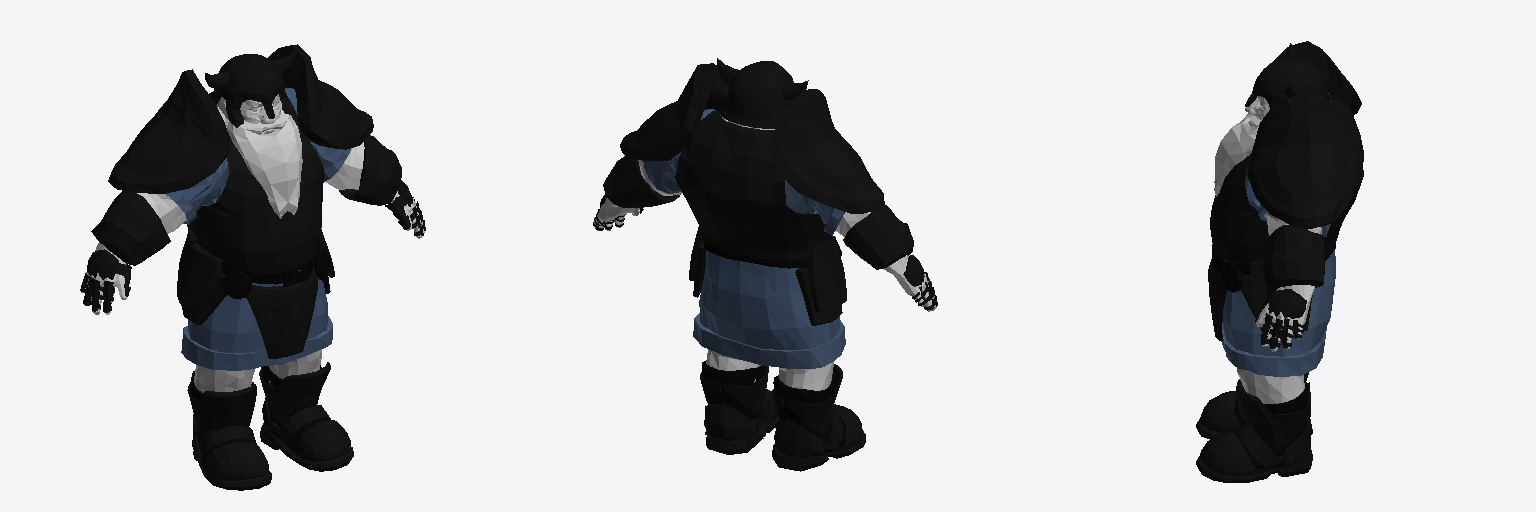
The model's file is dwarf2.obj.
The picture shows the model from 3 angles: view 1: azimuth 30°, elevation 25°; view 2: azimuth 150°, elevation 25°; view 3: azimuth 270°, elevation 25°; orthographic projection.
Visible parts, largest first — view 1: armor_Cube.013, body_Cube.005, cloth_Cube.002, leather_Cube.011; view 2: armor_Cube.013, cloth_Cube.002, leather_Cube.011, body_Cube.005; view 3: armor_Cube.013, cloth_Cube.002, body_Cube.005, leather_Cube.011.
Part boxes in pixels (left/top/right/bottom): armor_Cube.013: left=80, top=44, right=425, bottom=490; body_Cube.005: left=81, top=94, right=424, bottom=392; cloth_Cube.002: left=166, top=88, right=350, bottom=370; leather_Cube.011: left=190, top=241, right=329, bottom=478; armor_Cube.013: left=593, top=58, right=937, bottom=471; cloth_Cube.002: left=643, top=109, right=845, bottom=368; leather_Cube.011: left=702, top=236, right=850, bottom=458; body_Cube.005: left=594, top=117, right=936, bottom=390; armor_Cube.013: left=1196, top=41, right=1363, bottom=482; cloth_Cube.002: left=1221, top=93, right=1335, bottom=376; body_Cube.005: left=1214, top=96, right=1321, bottom=403; leather_Cube.011: left=1212, top=243, right=1335, bottom=475.
Bounding box in the file's own units: 1.69 × 1.86 × 0.7283.